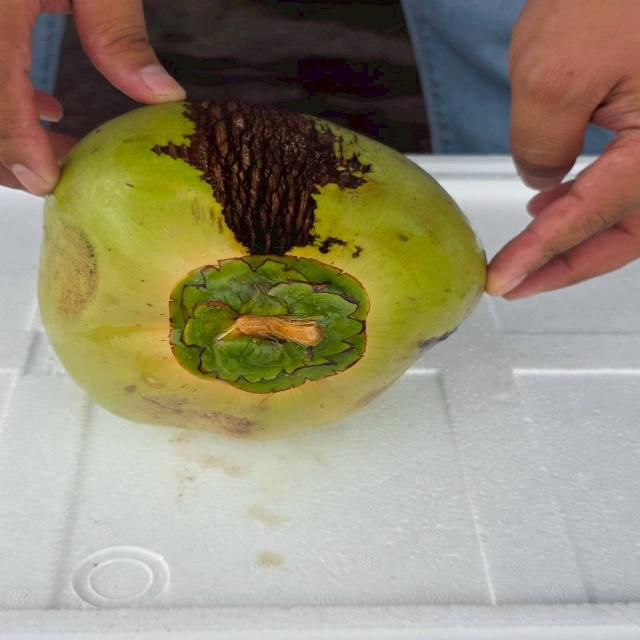coco_1.5: (112, 214, 416, 430)
